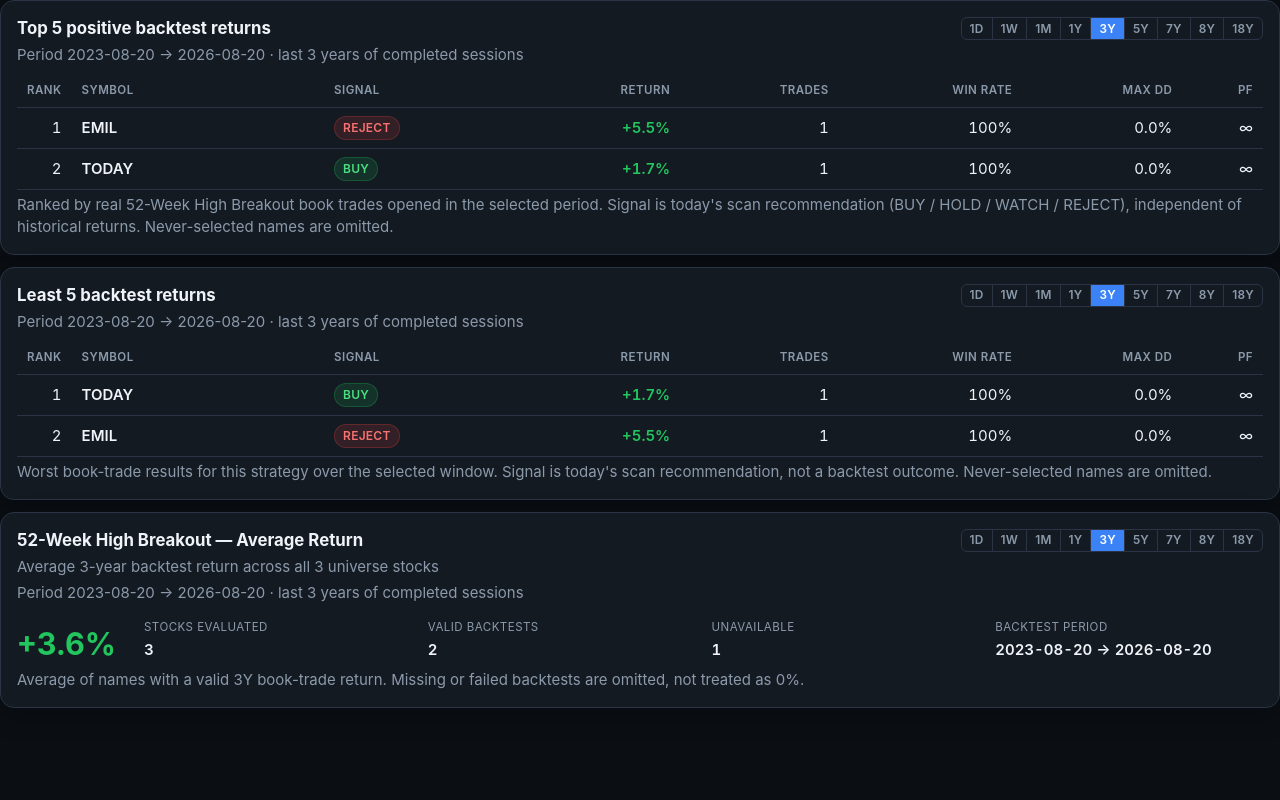
W52ReturnBoards › recomputes boards from blotter entry dates when the period changes
Click the tab "1D" in the row of "Top 5 positive backtest returns" at (977, 29), box x1=962 y1=18 x2=993 y2=39
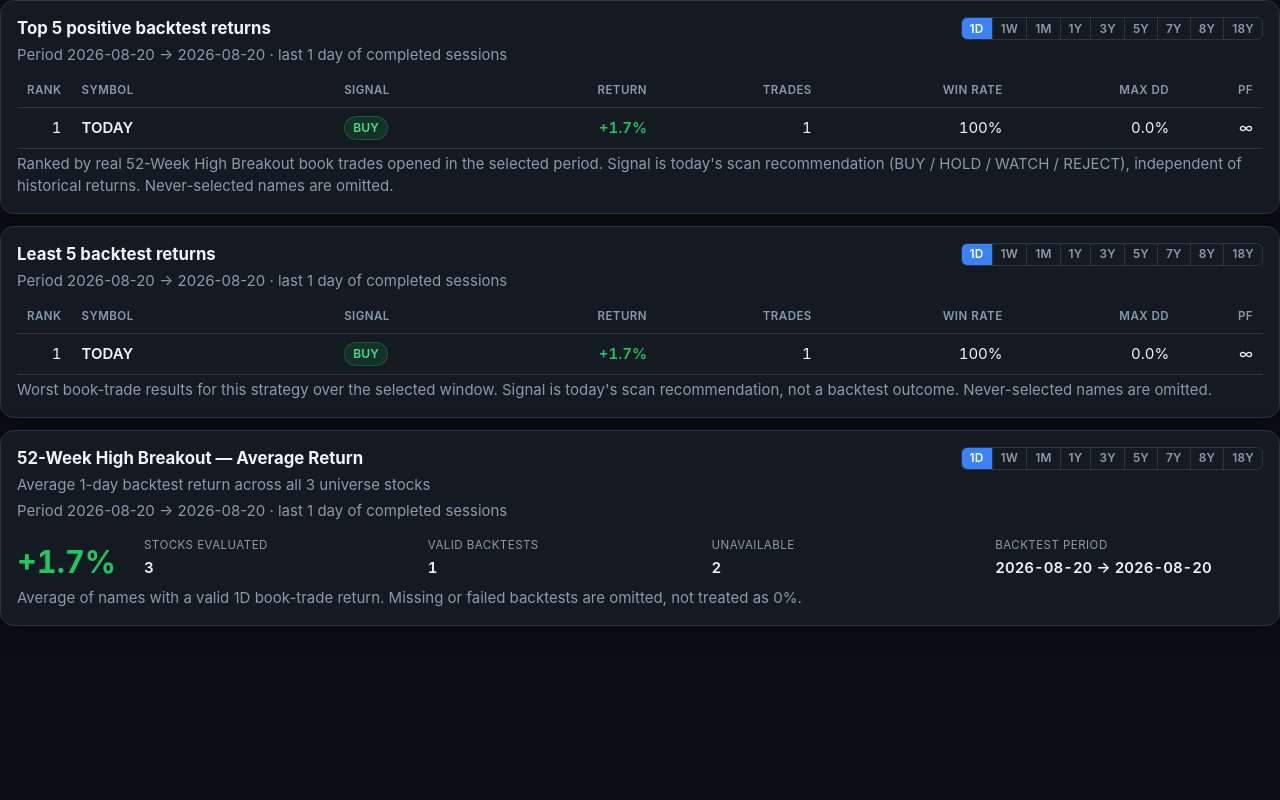
Expected: the text "TODAY" below "Top 5 positive backtest returns" is shown, x1=82 y1=118 x2=133 y2=137
Expected: the text "EMIL" is gone
Click the tab "1Y" in the row of "Top 5 positive backtest returns" at (1076, 29), box x1=1060 y1=18 x2=1091 y2=39
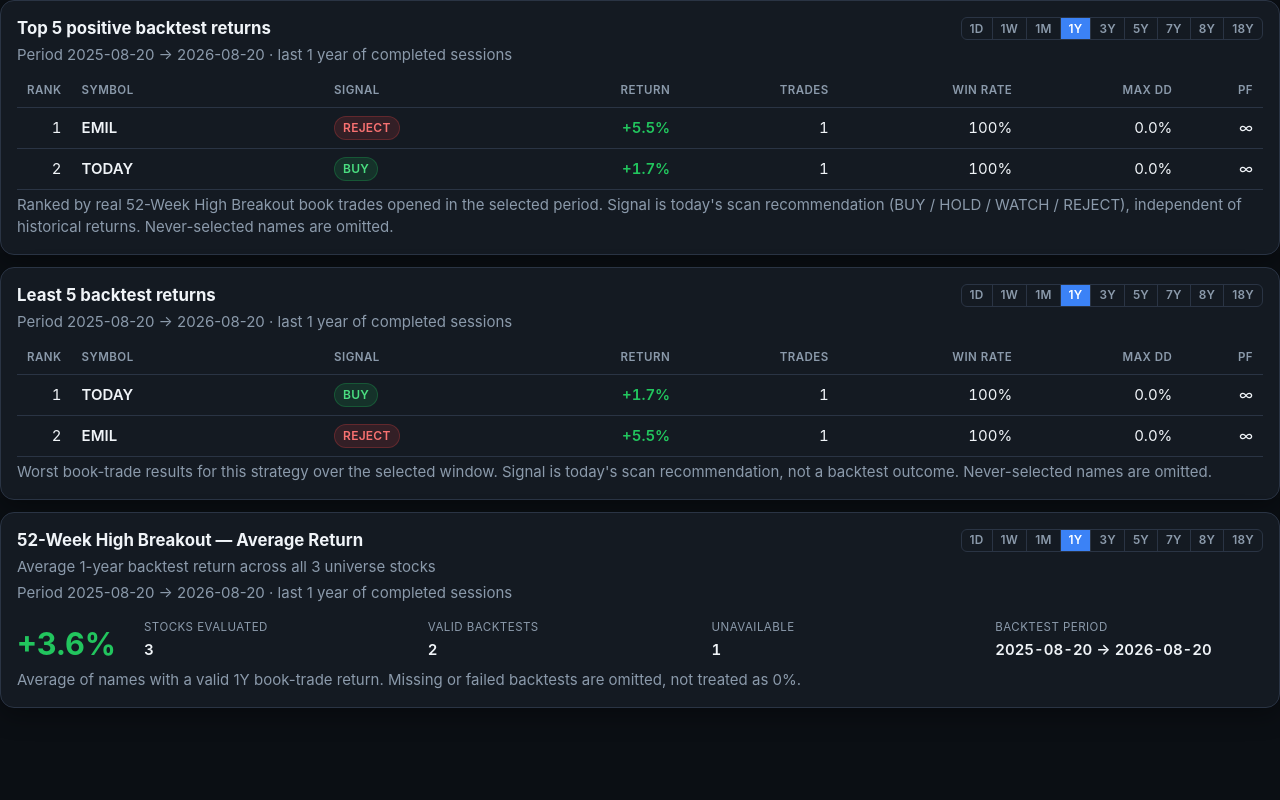
Expected: the text "TODAY" below "Top 5 positive backtest returns" is shown, x1=82 y1=159 x2=133 y2=178
Expected: the text "EMIL" below "Top 5 positive backtest returns" is shown, x1=82 y1=118 x2=117 y2=137
Click the tab "18Y" in the row of "Top 5 positive backtest returns" at (1243, 29), box x1=1224 y1=18 x2=1262 y2=39
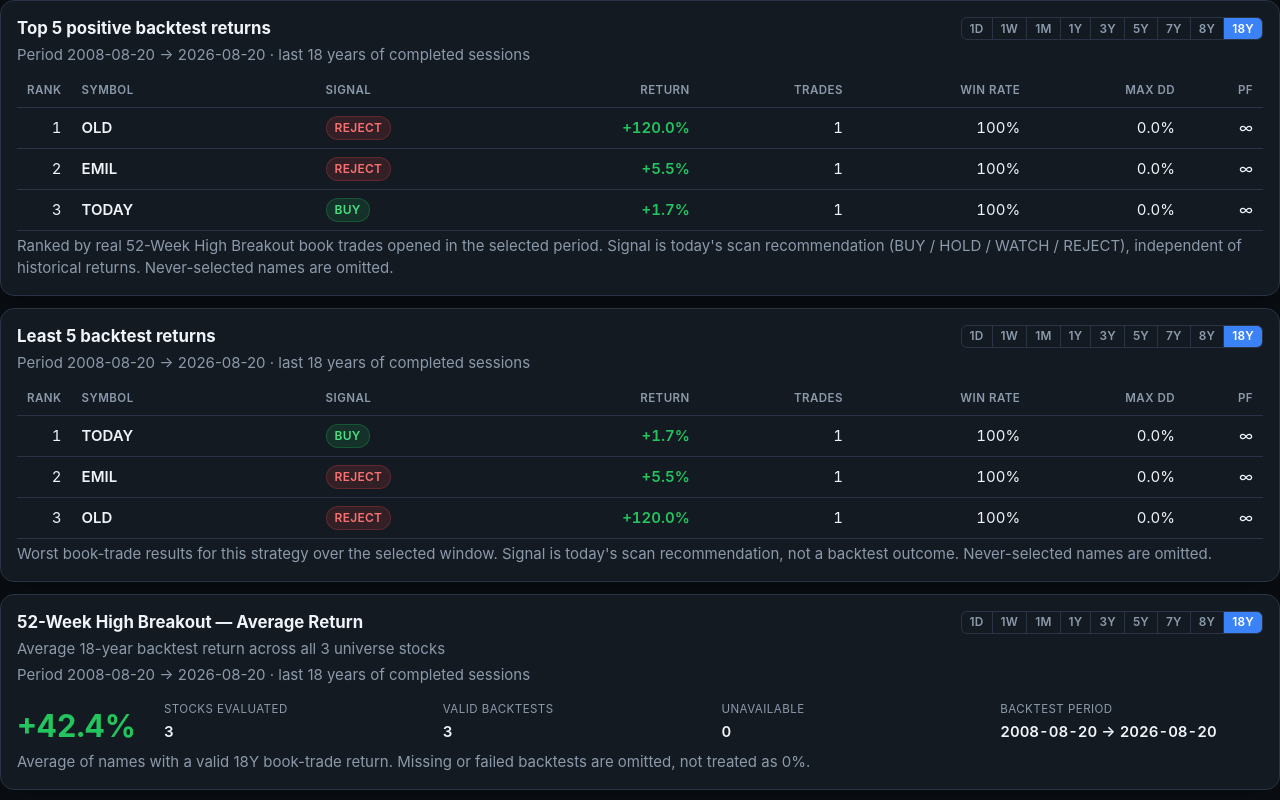
Expected: the text "OLD" below "Top 5 positive backtest returns" is shown, x1=82 y1=118 x2=112 y2=137
